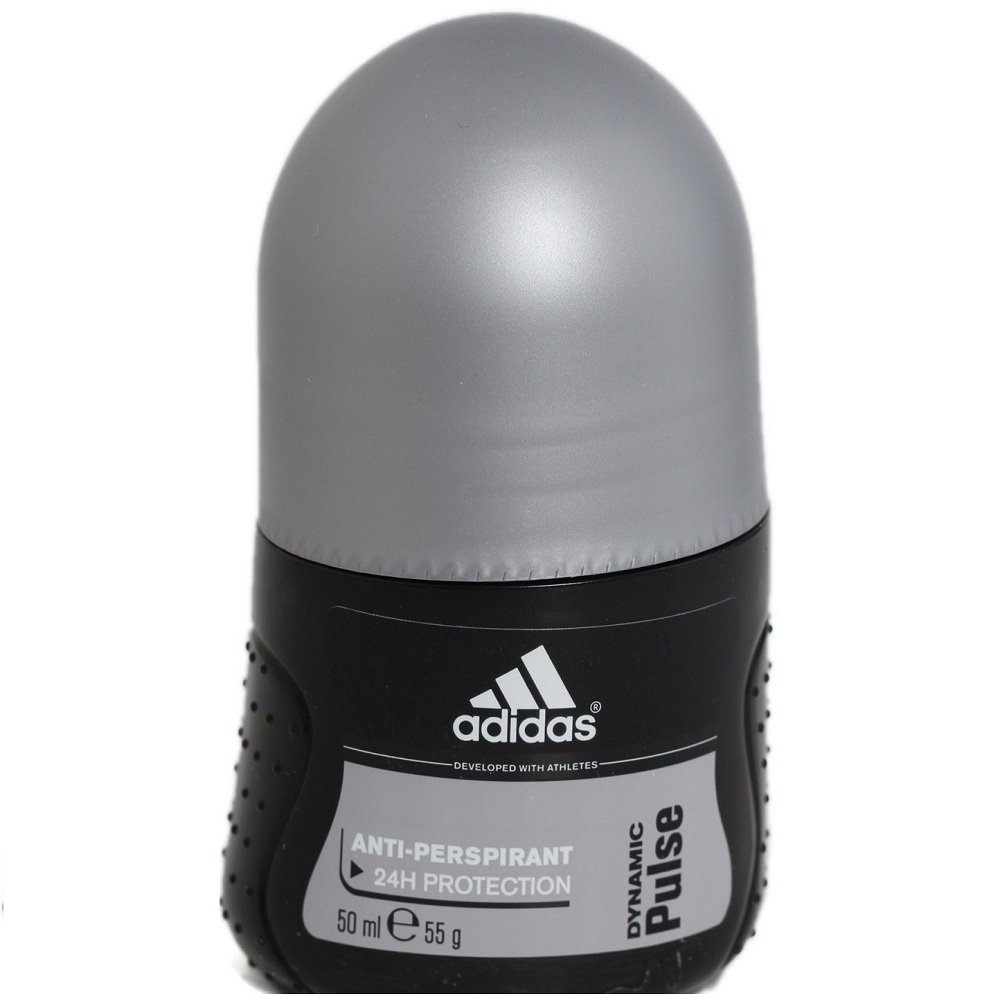Adidas: (450, 636, 602, 753)
